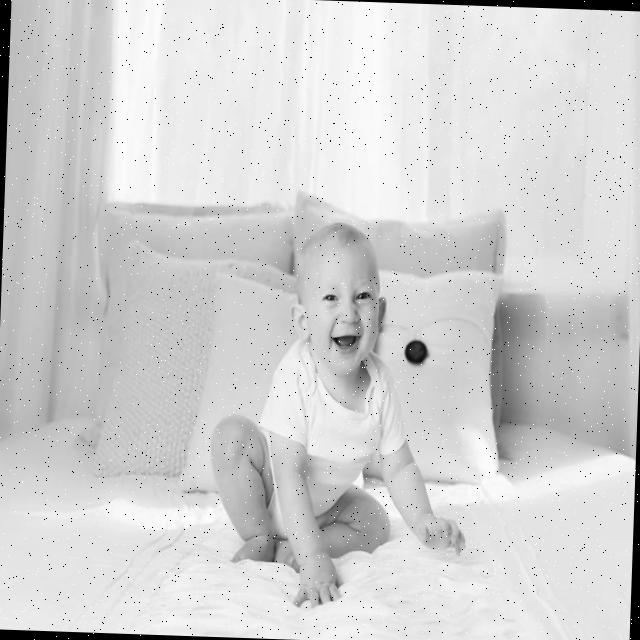Happiness: (286, 235, 388, 384)
